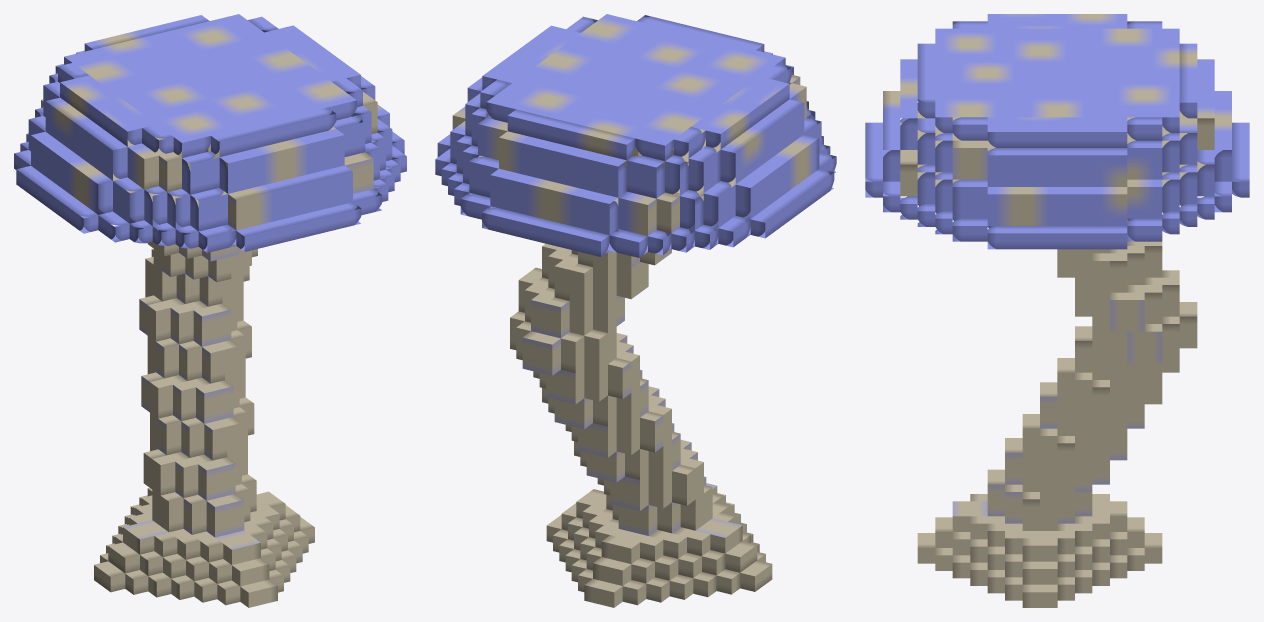
Rendered from MushWood2.dae.
3 renders of one model, left to right at view 1: azimuth 30°, elevation 25°; view 2: azimuth 150°, elevation 25°; view 3: azimuth 270°, elevation 25°, orthographic. The views are drawn at different scales.
Visible parts, largest first — view 1: Node-local; view 2: Node-local; view 3: Node-local.
Part boxes in pixels (x1=…): Node-local: x1=14, y1=14, x2=406, y2=607; Node-local: x1=435, y1=14, x2=836, y2=607; Node-local: x1=865, y1=14, x2=1249, y2=607.
Bounding box in the file's own units: 22 × 31 × 22.
